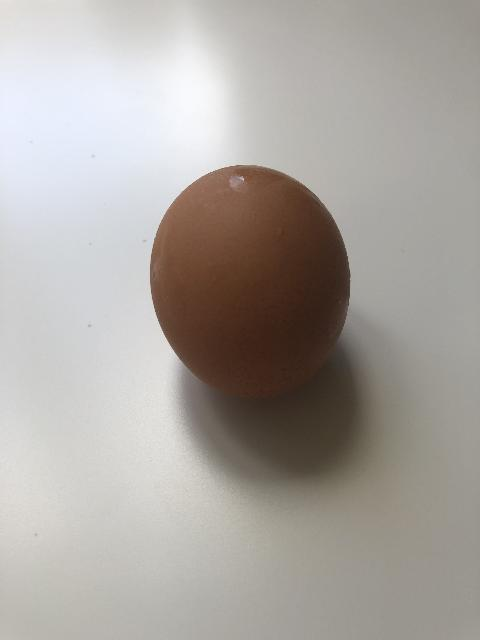Sano: (148, 162, 352, 400)
